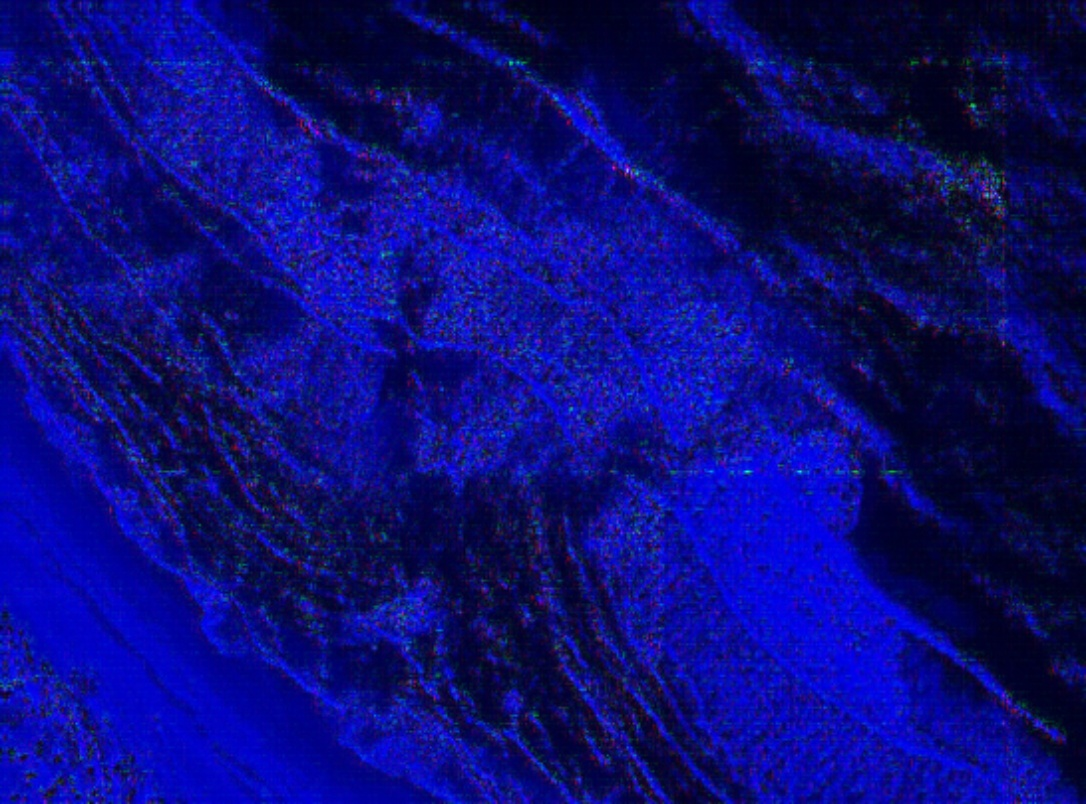rip_current: (294, 212, 831, 623)
